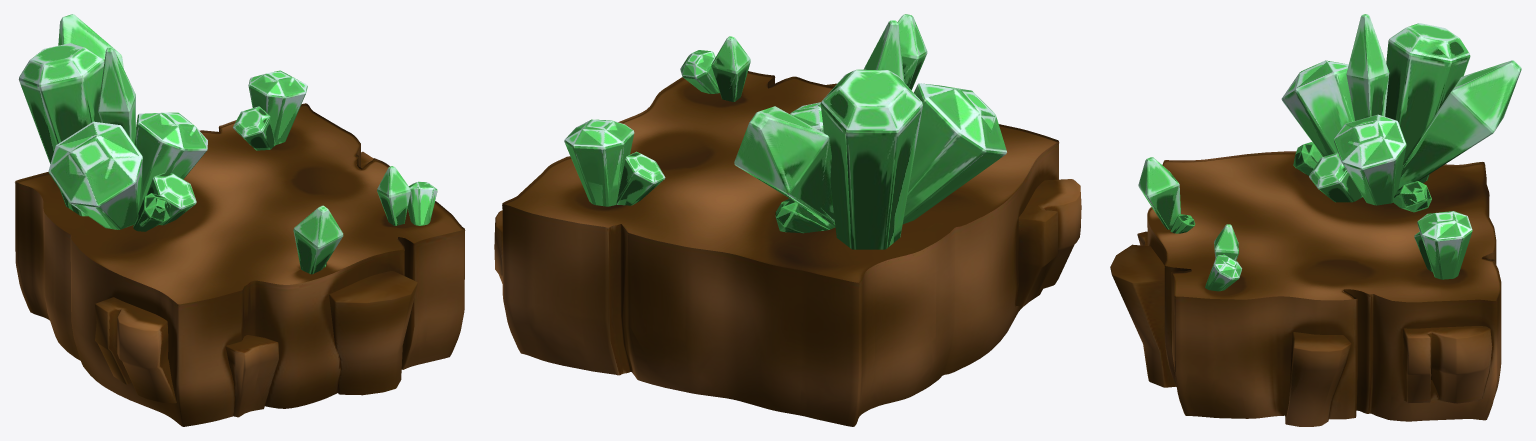
The model's file is land-X.glb.
3 views of the same model, side by side, from view 1: azimuth 30°, elevation 25°; view 2: azimuth 150°, elevation 25°; view 3: azimuth 270°, elevation 25° (orthographic). The views are drawn at different scales.
Parts seen in each view (by area): view 1: Land; view 2: Land; view 3: Land.
Boxes of the visible parts, bbox=[...] form: Land: bbox=[15, 14, 465, 426]; Land: bbox=[494, 14, 1081, 426]; Land: bbox=[1110, 14, 1521, 426].
Size of the model in its own units: 9.26 by 7.13 by 9.28.
1 material, 1 textured.
